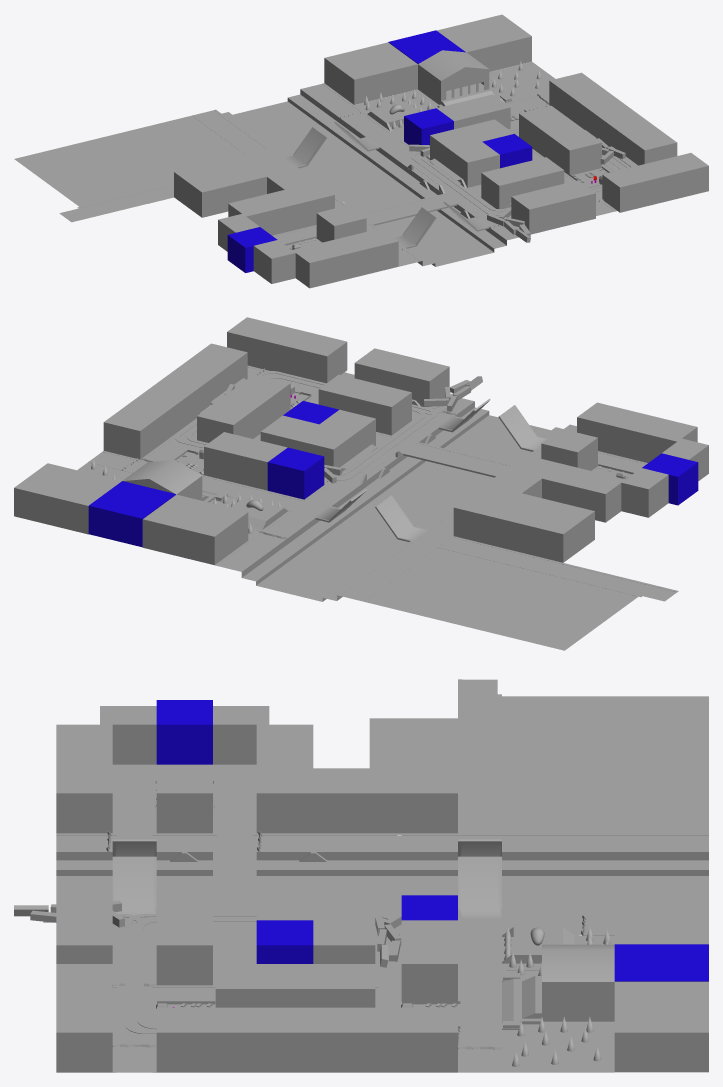
The model's file is GrayBox.fbx.
3 views of the same model, one above another, from view 1: azimuth 30°, elevation 25°; view 2: azimuth 150°, elevation 25°; view 3: azimuth 270°, elevation 25° (orthographic). The views are drawn at different scales.
Parts seen in each view (by area): view 1: pCube75, pPlane23, pCube122, pCube51, pCube45, pCube37, pCube46, pCube42, pPlane8, pPlane20, pCube128, pCube70 (+30 smaller); view 2: pCube75, pPlane23, pCube122, pCube51, pCube45, pCube37, pPlane8, pCube129, pCube42, pCube46, pCube128, pCube70 (+28 smaller); view 3: pPlane23, pCube75, pCube51, pCube122, pPlane13, pCube37, pCube45, pCube111, pPlane20, pPlane24, pCube42, pPlane17 (+43 smaller).
Boxes of the visible parts, box(x1,y1,x2,y2) form: pCube75: box(222, 89, 506, 266); pPlane23: box(14, 115, 244, 206); pCube122: box(324, 14, 531, 104); pCube51: box(549, 72, 677, 165); pCube45: box(602, 153, 708, 212); pCube37: box(519, 105, 601, 175); pCube46: box(511, 180, 595, 234); pCube42: box(481, 157, 564, 209); pPlane8: box(303, 84, 518, 239); pPlane20: box(354, 62, 555, 130); pCube128: box(174, 164, 234, 217); pCube70: box(436, 94, 510, 129); pCube75: box(241, 401, 563, 601); pPlane23: box(364, 548, 637, 650); pCube122: box(14, 463, 248, 565); pCube51: box(103, 343, 247, 459); pCube45: box(227, 317, 347, 383); pCube37: box(197, 374, 290, 442); pPlane8: box(218, 398, 471, 571); pCube129: box(88, 481, 175, 547); pCube42: box(318, 374, 411, 435); pCube46: box(354, 348, 449, 406); pCube128: box(526, 502, 594, 562); pCube70: box(204, 432, 287, 490); pPlane23: box(502, 696, 708, 833); pCube75: box(56, 852, 708, 916); pCube51: box(156, 1007, 457, 1072); pCube122: box(614, 895, 708, 1072); pPlane13: box(56, 835, 708, 850); pCube37: box(215, 964, 375, 1007); pCube45: box(56, 964, 112, 1072); pCube111: box(369, 768, 457, 833); pPlane20: box(502, 935, 614, 1072); pPlane24: box(462, 679, 497, 833); pCube42: box(156, 895, 212, 985); pPlane17: box(462, 918, 497, 1072).
Size of the model in its own units: 393 by 31.34 by 294.
